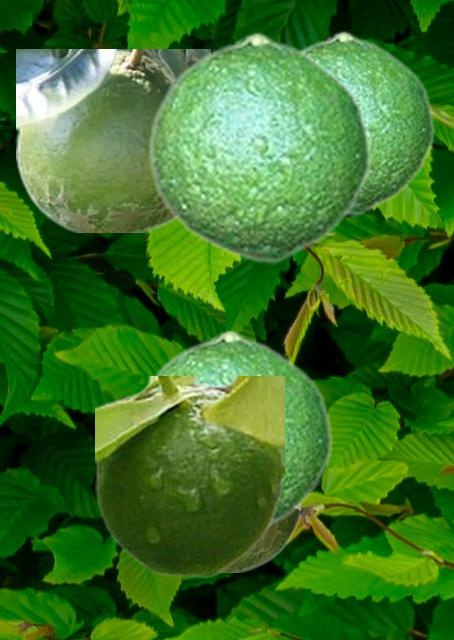dalandan: (146, 31, 371, 263), (138, 329, 332, 532), (95, 376, 283, 576), (16, 49, 209, 231), (299, 30, 434, 215), (225, 510, 299, 571)
